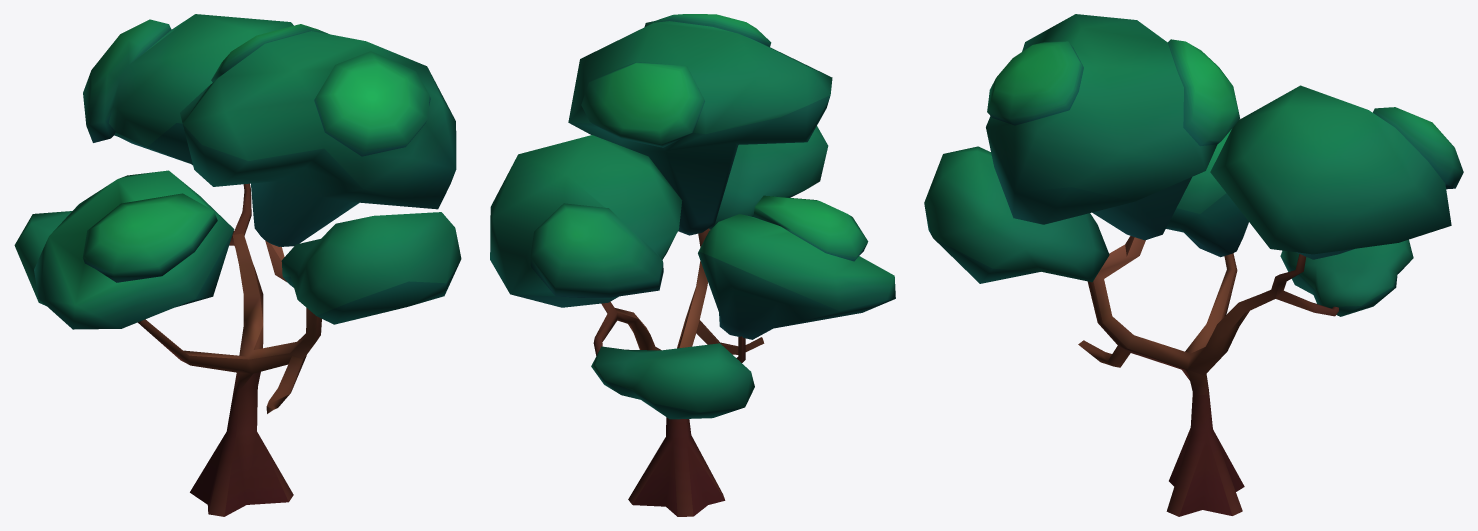
The model's file is Tree_2H.fbx.
The picture shows the model from 3 angles, left to right: view 1: azimuth 30°, elevation 25°; view 2: azimuth 150°, elevation 25°; view 3: azimuth 270°, elevation 25°; orthographic projection. The views are drawn at different scales.
Visible parts, largest first — view 1: Tree_2H; view 2: Tree_2H; view 3: Tree_2H.
Part boxes in pixels (<box>): Tree_2H: <box>14,14,461,516</box>; Tree_2H: <box>490,14,895,516</box>; Tree_2H: <box>924,14,1463,516</box>.
Bounding box in the file's own units: 904 × 1119 × 1168.
